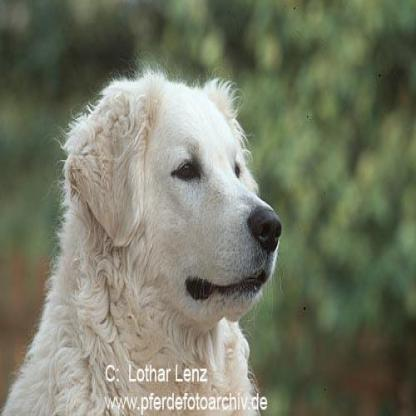kuvasz: (0, 44, 309, 414)
